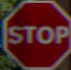Stop: (3, 9, 65, 56)
